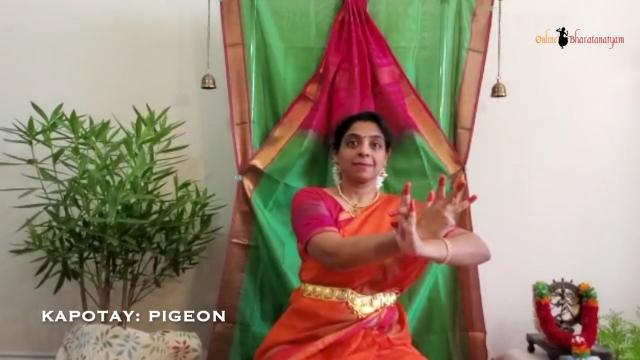tripataka: (376, 182, 432, 258)
